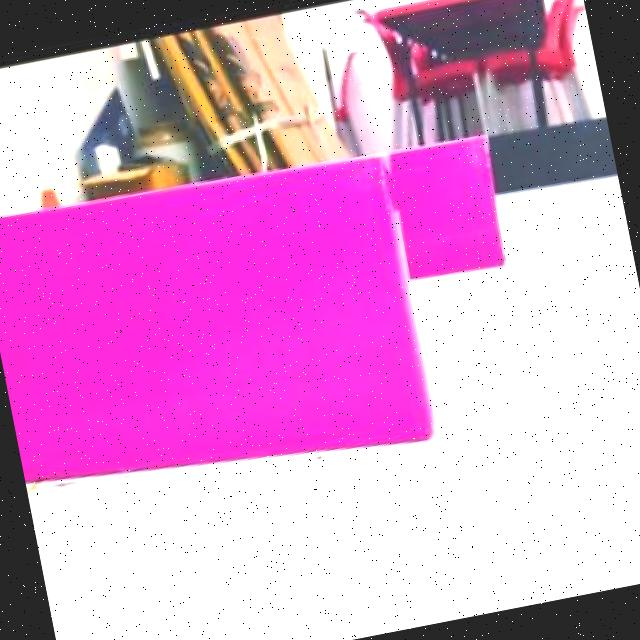xparking: (0, 148, 433, 502), (388, 134, 512, 286)
